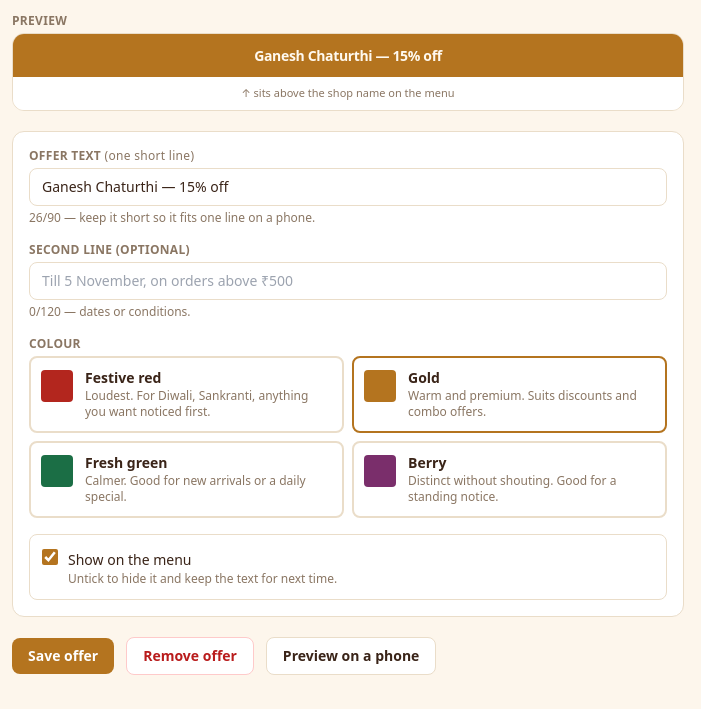
Test case: the preview › fills the second line in as it is typed
Type "Till 5 November" into the field labelled "Second line (optional)" at (348, 281), box [29, 262, 667, 300]
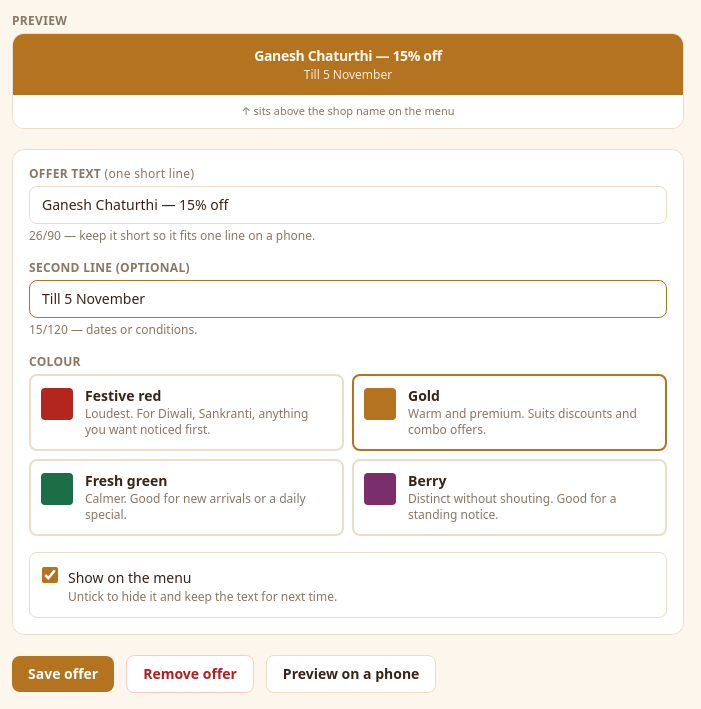
Expected: the text "Till 5 November" is shown, [304, 66, 392, 83]
